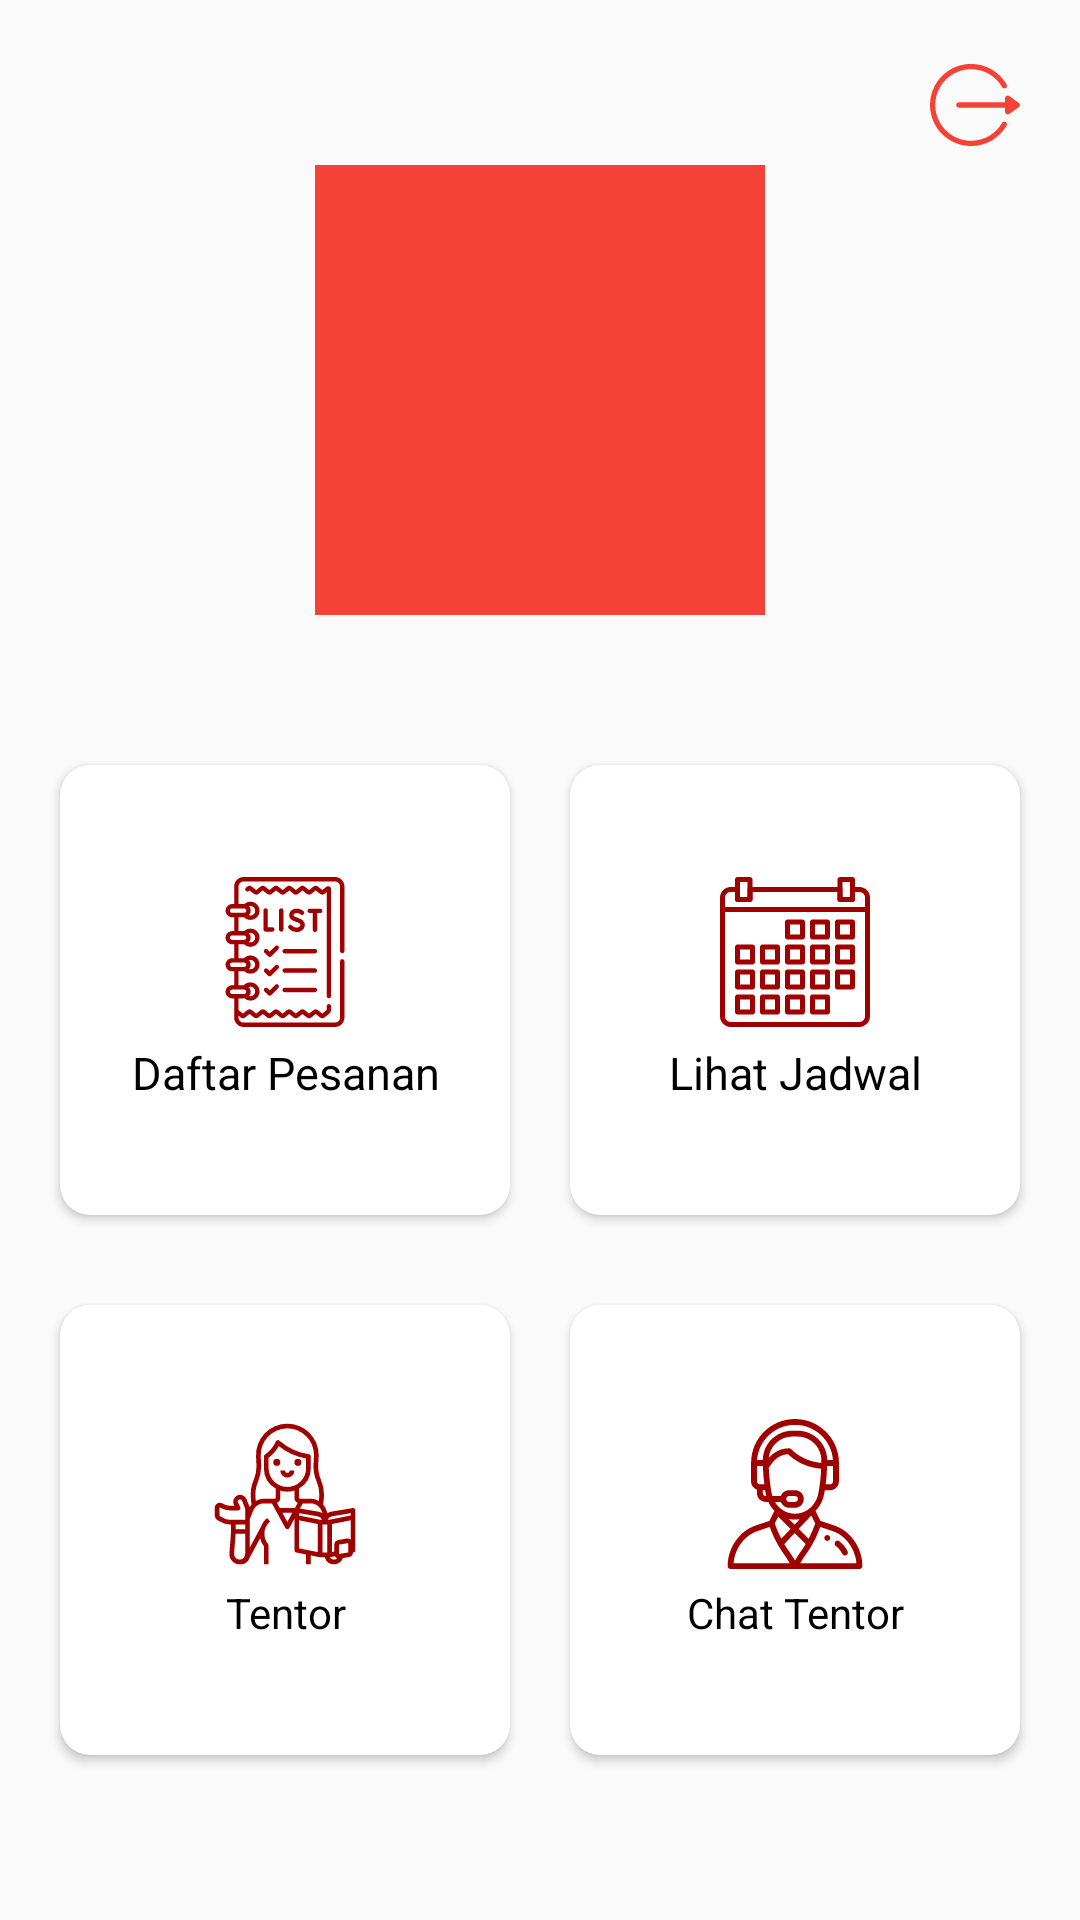

Named icons in this screenshot (1080*1920) and their centers, point (x, y):
administrator: point (795, 1494)
calendar: point (795, 952)
